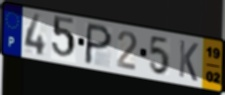2: (116, 30, 139, 73)
4: (23, 11, 49, 58)
5: (51, 14, 77, 63), (148, 34, 172, 76)
K: (177, 38, 200, 84)
P: (83, 22, 115, 67)
